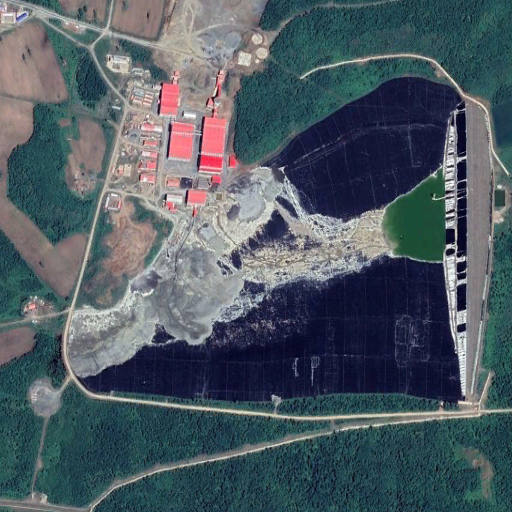lf: (67, 80, 465, 402)
